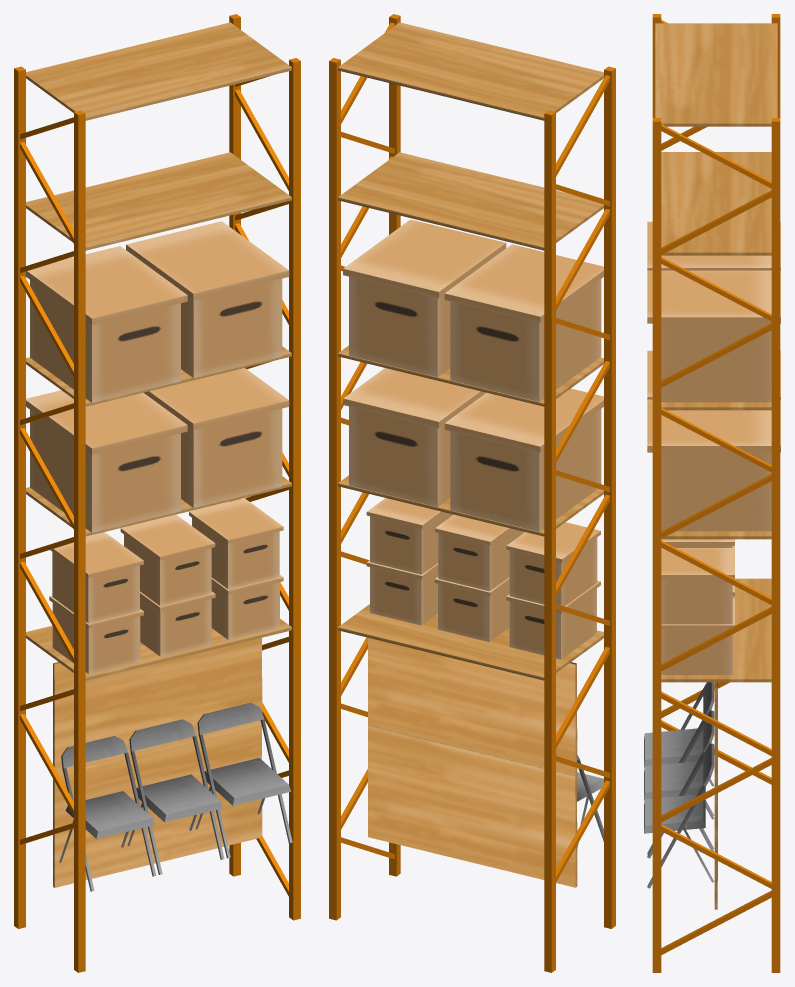
Rendered from Folding_Chair_Rack.fbx.
The picture shows the model from 3 angles, left to right: view 1: azimuth 30°, elevation 25°; view 2: azimuth 150°, elevation 25°; view 3: azimuth 270°, elevation 25°; orthographic projection.
Visible parts, largest first — view 1: Folding_Chair_Rack; view 2: Folding_Chair_Rack; view 3: Folding_Chair_Rack.
Part boxes in pixels (box(x1,y1,x2,y2)): Folding_Chair_Rack: box(14, 14, 300, 972); Folding_Chair_Rack: box(329, 14, 615, 972); Folding_Chair_Rack: box(644, 14, 780, 972).
Bounding box in the file's own units: 2 × 7.37 × 1.07.
